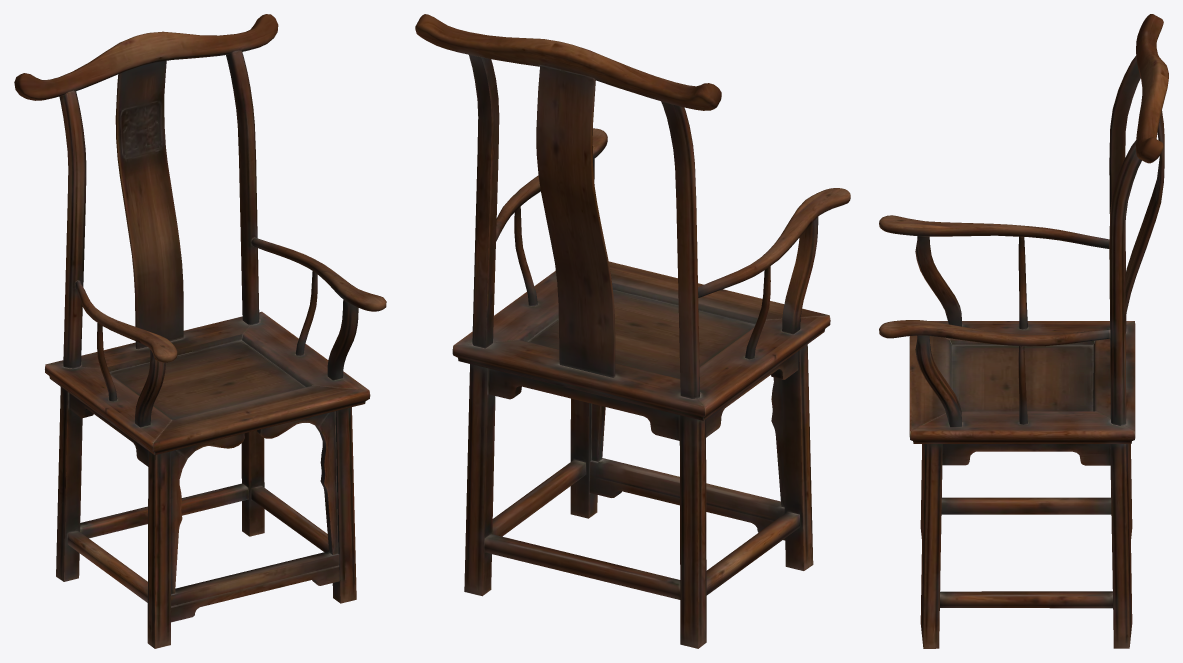
The model's file is e8a6bdac-2b8e-424c-ba9c-af3e0584e9a6.glb.
The picture shows the model from 3 angles, left to right: view 1: azimuth 30°, elevation 25°; view 2: azimuth 150°, elevation 25°; view 3: azimuth 270°, elevation 25°; orthographic projection. The views are drawn at different scales.
Visible parts, largest first — view 1: chinese_armchair; view 2: chinese_armchair; view 3: chinese_armchair.
Boxes of the visible parts, bbox=[...] form: chinese_armchair: bbox=[14, 14, 386, 648]; chinese_armchair: bbox=[415, 14, 850, 648]; chinese_armchair: bbox=[879, 14, 1168, 648].
Size of the model in its own units: 0.8482 by 1.59 by 0.7887.
Materials: 1 (1 with a texture image).
